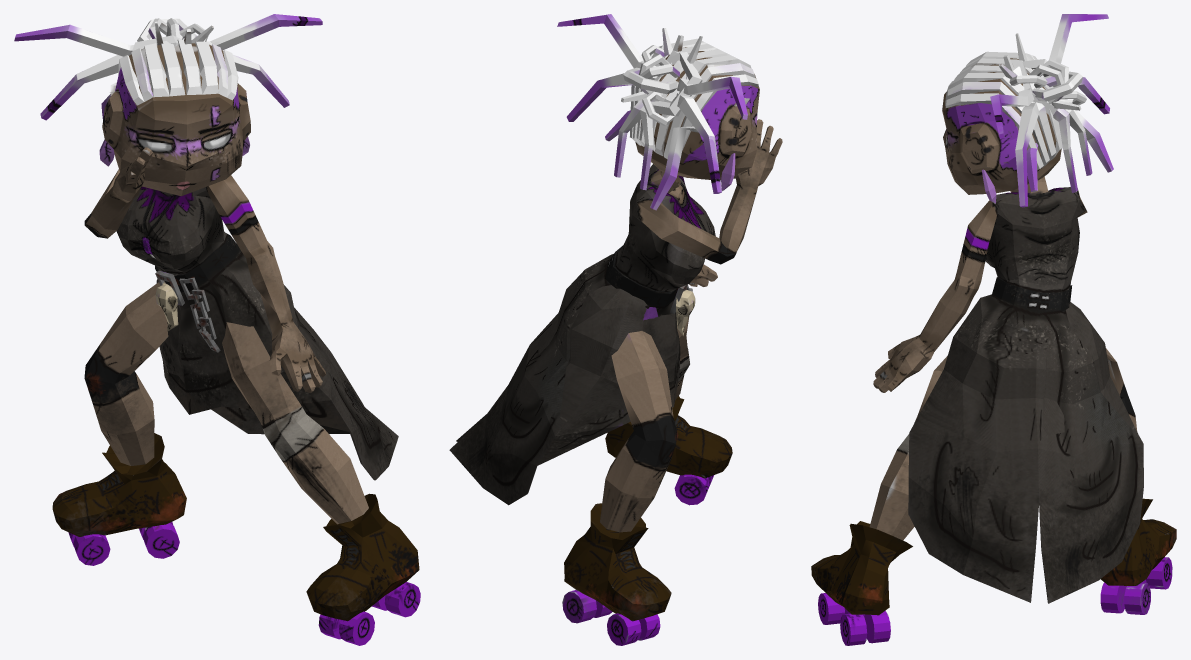
Rendered from bruja_000008.obj.
3 views of the same model, side by side, from view 1: azimuth 30°, elevation 25°; view 2: azimuth 150°, elevation 25°; view 3: azimuth 270°, elevation 25° (orthographic). The views are drawn at different scales.
Parts seen in each view (by area): view 1: Bruja_Plane.001; view 2: Bruja_Plane.001; view 3: Bruja_Plane.001.
Part boxes in pixels (x1,y1,x2,y2): Bruja_Plane.001: [14, 14, 420, 645]; Bruja_Plane.001: [449, 14, 782, 645]; Bruja_Plane.001: [811, 14, 1176, 645].
Size of the model in its own units: 9.54 by 15.47 by 9.25.
